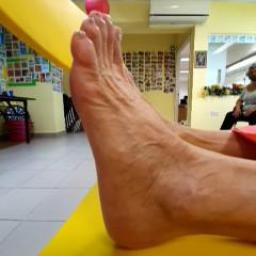Lateral View -Left Foot-: (54, 3, 232, 255)
